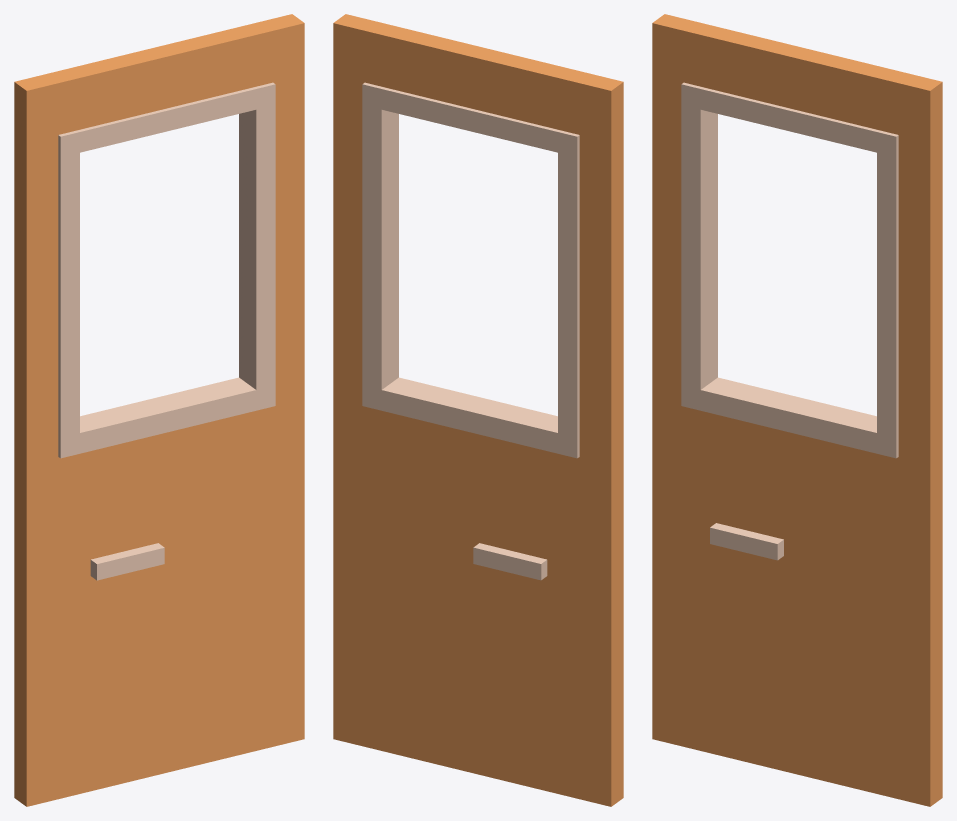
The model's file is Restaurant Doors.fbx.
3 renders of one model, left to right at view 1: azimuth 30°, elevation 25°; view 2: azimuth 150°, elevation 25°; view 3: azimuth 330°, elevation 25°, orthographic.
Parts seen in each view (by area): view 1: Door 02 Restaurant White; view 2: Door 02 Restaurant White; view 3: Door 02 Restaurant White.
Part boxes in pixels (x1,y1,x2,y2): Door 02 Restaurant White: [14, 14, 304, 806]; Door 02 Restaurant White: [333, 14, 623, 806]; Door 02 Restaurant White: [652, 14, 942, 806].
Size of the model in its own units: 50.74 by 125 by 7.88.
